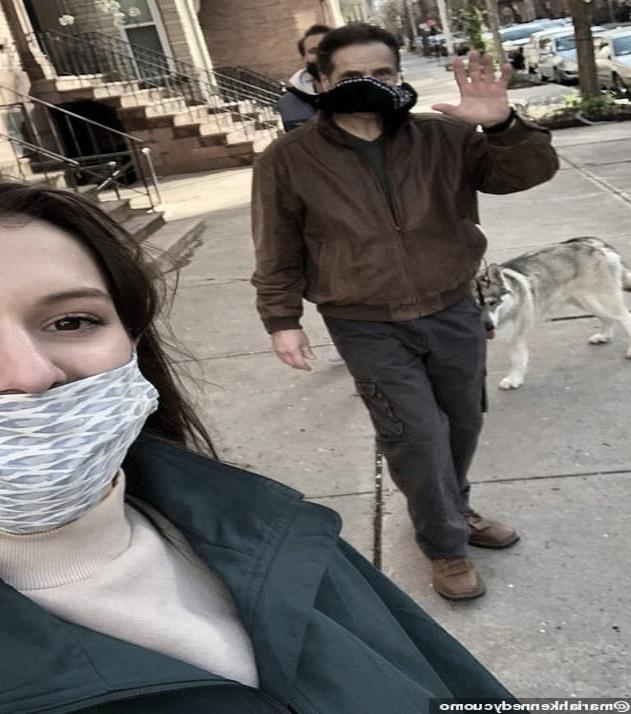mask_weared_incorrect: (1, 177, 162, 532)
